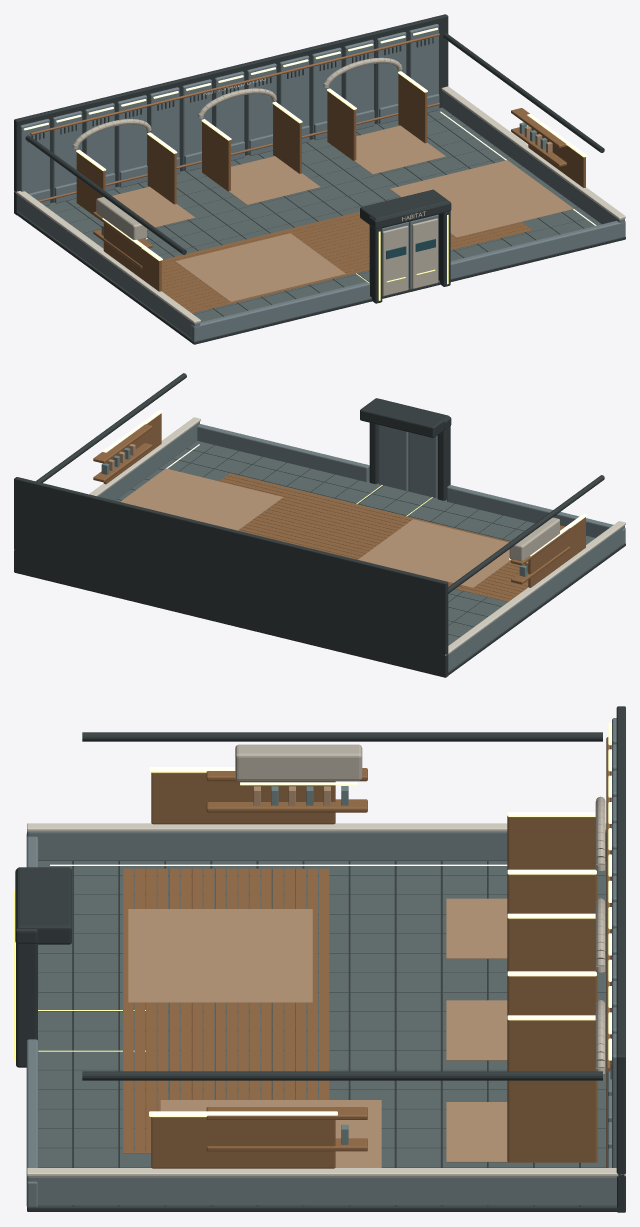
The model's file is habitat-shell.glb.
3 renders of one model, top to bottom at view 1: azimuth 30°, elevation 25°; view 2: azimuth 150°, elevation 25°; view 3: azimuth 270°, elevation 25°, orthographic. The views are drawn at different scales.
Visible parts, largest first — view 1: InteriorRevealBack_Steel, Floor_Floor, Floor_Linen, InteriorRevealRail_Steel, InteriorRevealAlcove_Wood, InteriorRevealBack_Graphite, Floor_Wood, CutawayEntrance_Graphite, InteriorRevealDomestic_Wood, InteriorRevealRail_Edge, Floor_Graphite, InteriorRevealDomestic_Graphite (+8 smaller); view 2: InteriorRevealBack_Graphite, Floor_Floor, Floor_Linen, InteriorRevealRail_Steel, Floor_Wood, InteriorRevealDomestic_Wood, CutawayEntrance_Graphite, InteriorRevealRail_Edge, InteriorRevealDomestic_Graphite, DoorRight_Steel, DoorLeft_Steel, Floor_Graphite (+2 smaller); view 3: Floor_Floor, InteriorRevealRail_Steel, Floor_Linen, Floor_Wood, InteriorRevealAlcove_Wood, InteriorRevealDomestic_Wood, InteriorRevealDomestic_Graphite, InteriorRevealRail_Edge, CutawayEntrance_Graphite, Floor_Graphite, InteriorRevealBack_Graphite, InteriorRevealDomestic_Ivory (+7 smaller).
Boxes of the visible parts, x1=… form: InteriorRevealBack_Steel: x1=20, y1=24, x2=439, y2=206; Floor_Floor: x1=17, y1=107, x2=601, y2=338; Floor_Linen: x1=112, y1=125, x2=573, y2=301; InteriorRevealRail_Steel: x1=17, y1=90, x2=625, y2=341; InteriorRevealAlcove_Wood: x1=76, y1=73, x2=427, y2=221; InteriorRevealBack_Graphite: x1=14, y1=14, x2=448, y2=215; Floor_Wood: x1=161, y1=211, x2=531, y2=313; CutawayEntrance_Graphite: x1=360, y1=189, x2=451, y2=303; InteriorRevealDomestic_Wood: x1=93, y1=108, x2=585, y2=291; InteriorRevealRail_Edge: x1=14, y1=86, x2=625, y2=323; Floor_Graphite: x1=14, y1=114, x2=625, y2=344; InteriorRevealDomestic_Graphite: x1=25, y1=33, x2=604, y2=254; InteriorRevealBack_Graphite: x1=14, y1=477, x2=448, y2=677; Floor_Floor: x1=115, y1=441, x2=622, y2=672; Floor_Linen: x1=120, y1=468, x2=511, y2=587; InteriorRevealRail_Steel: x1=98, y1=421, x2=625, y2=671; Floor_Wood: x1=219, y1=473, x2=528, y2=601; InteriorRevealDomestic_Wood: x1=93, y1=413, x2=585, y2=587; CutawayEntrance_Graphite: x1=360, y1=398, x2=451, y2=500; InteriorRevealRail_Edge: x1=14, y1=417, x2=625, y2=655; InteriorRevealDomestic_Graphite: x1=36, y1=373, x2=604, y2=593; DoorRight_Steel: x1=378, y1=425, x2=408, y2=490; DoorLeft_Steel: x1=408, y1=432, x2=437, y2=498; Floor_Graphite: x1=179, y1=446, x2=625, y2=675; Floor_Floor: x1=37, y1=861, x2=616, y2=1206; InteriorRevealRail_Steel: x1=26, y1=832, x2=616, y2=1207; Floor_Linen: x1=128, y1=898, x2=507, y2=1167; Floor_Wood: x1=123, y1=868, x2=329, y2=1153; InteriorRevealAlcove_Wood: x1=507, y1=816, x2=597, y2=1163; InteriorRevealDomestic_Wood: x1=151, y1=768, x2=367, y2=1168; InteriorRevealDomestic_Graphite: x1=82, y1=732, x2=602, y2=1080; InteriorRevealRail_Edge: x1=27, y1=823, x2=625, y2=1176; CutawayEntrance_Graphite: x1=15, y1=867, x2=71, y2=1067; Floor_Graphite: x1=27, y1=861, x2=625, y2=1211; InteriorRevealBack_Graphite: x1=610, y1=706, x2=625, y2=1212; InteriorRevealDomestic_Ivory: x1=235, y1=744, x2=362, y2=780.
Size of the model in its own units: 18 by 3.76 by 13.28.
